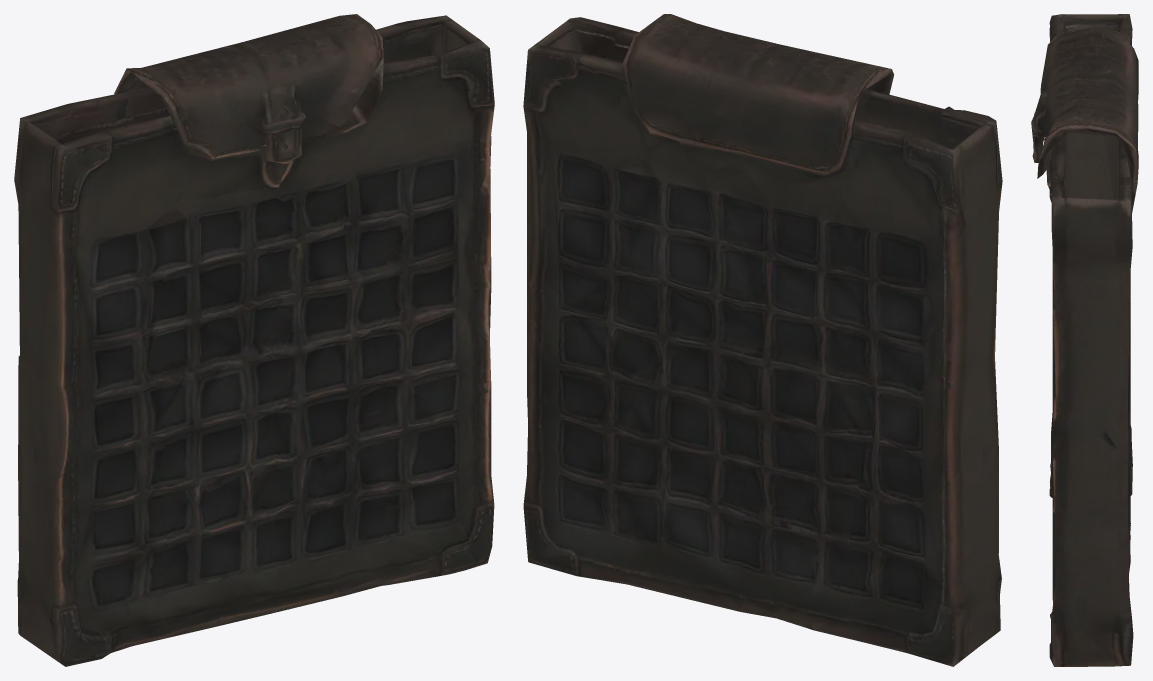
File: Backpack_Inventory.glb
3 views of the same model, side by side, from view 1: azimuth 30°, elevation 25°; view 2: azimuth 150°, elevation 25°; view 3: azimuth 270°, elevation 25° (orthographic). The views are drawn at different scales.
Bounding box in the file's own units: 1.56 × 1.89 × 0.3679.
1 material, 1 textured.
